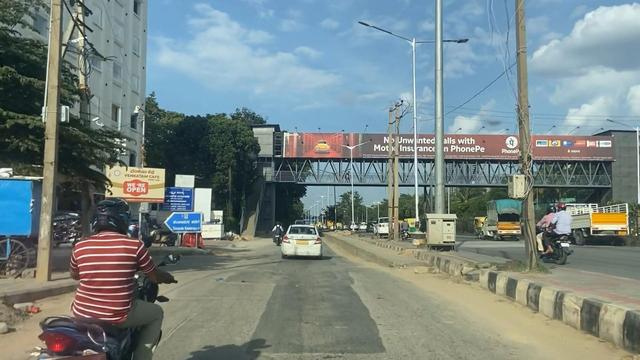LMV: (278, 221, 325, 259)
RoadDamages: (144, 307, 203, 336)
UnsurfacedRoad: (228, 305, 379, 353)
